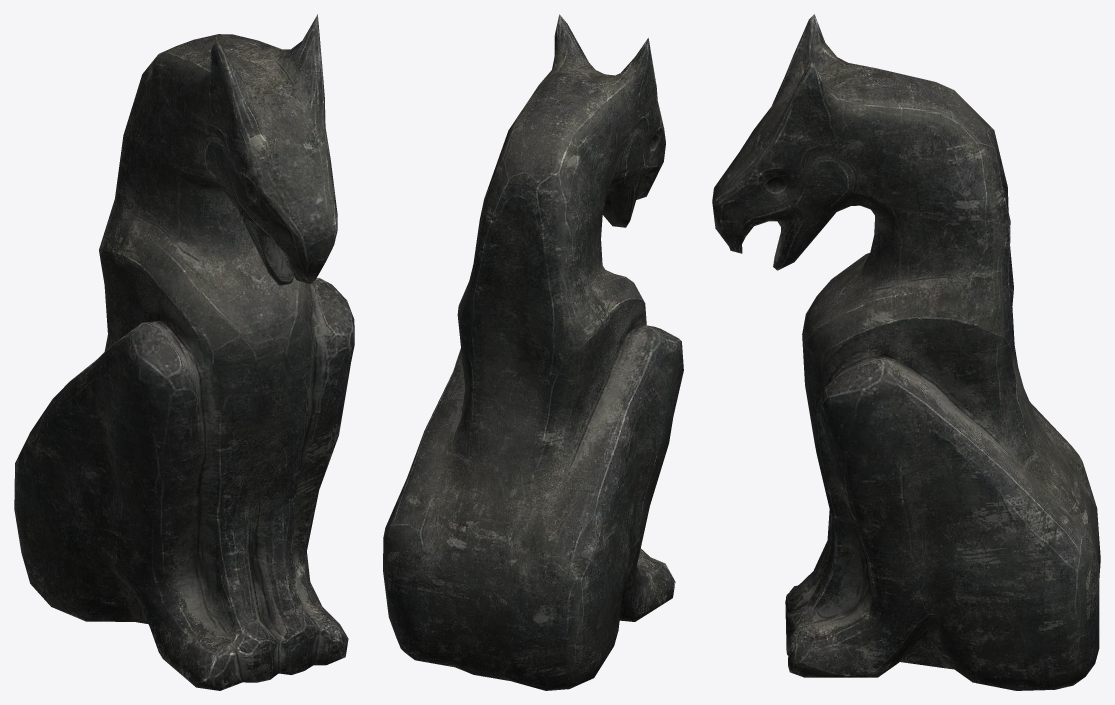
The model's file is statue.glb.
The picture shows the model from 3 angles, left to right: view 1: azimuth 30°, elevation 25°; view 2: azimuth 150°, elevation 25°; view 3: azimuth 270°, elevation 25°; orthographic projection. The views are drawn at different scales.
Visible parts, largest first — view 1: staue1_staue1_0; view 2: staue1_staue1_0; view 3: staue1_staue1_0.
Boxes of the visible parts, x1,y1,x2,y2 form: staue1_staue1_0: (14,14,354,690); staue1_staue1_0: (383,14,683,690); staue1_staue1_0: (712,14,1100,690).
Size of the model in its own units: 3.02 by 7.79 by 4.49.
Materials: 1 (1 with a texture image).
